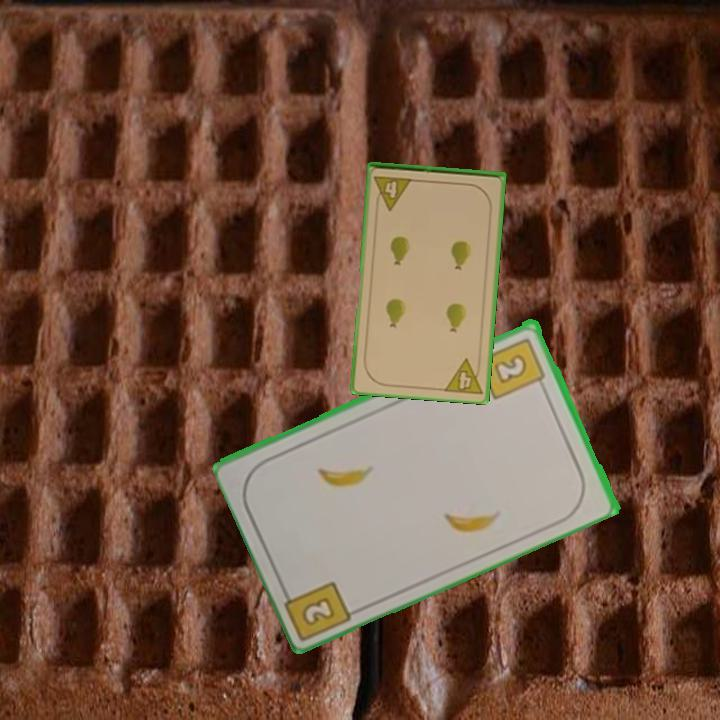2b: (474, 333, 549, 402), (277, 577, 356, 640)
4p: (440, 355, 485, 397), (371, 173, 415, 212)
